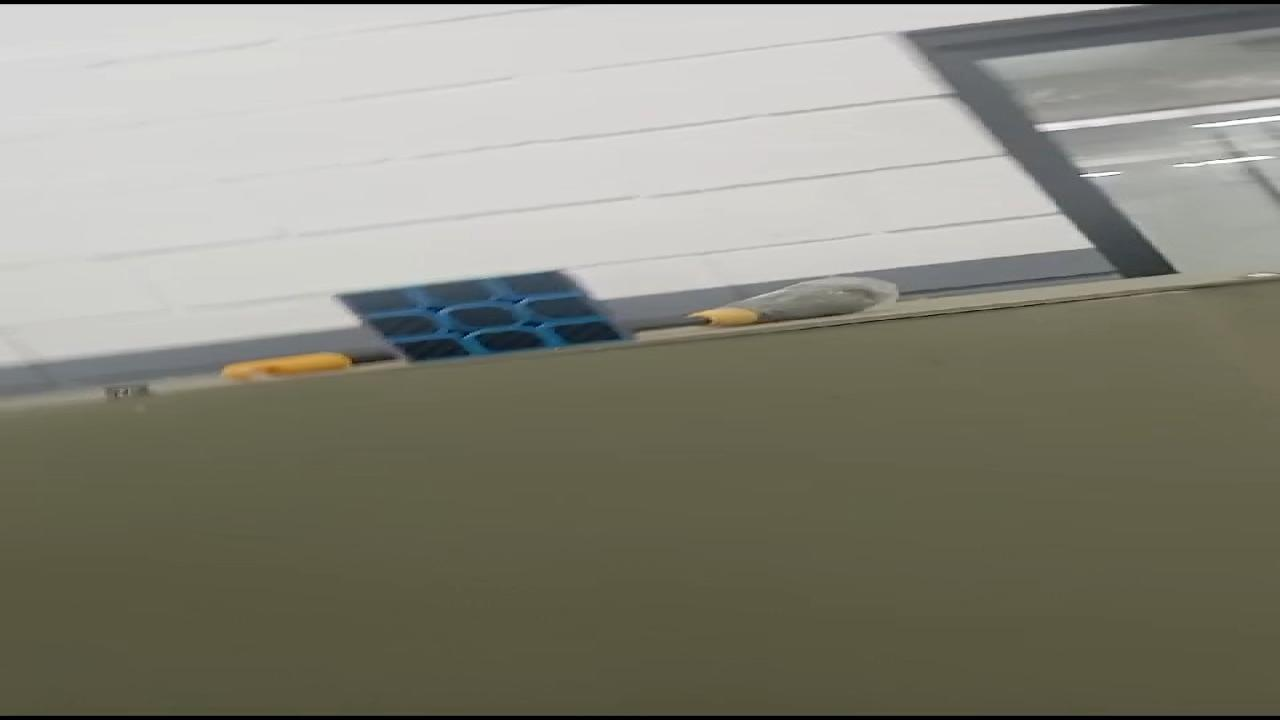Cube: (330, 266, 643, 366)
